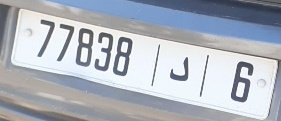3: (93, 30, 113, 74)
6: (226, 59, 255, 105)
7: (35, 15, 54, 60), (55, 22, 75, 64)
8: (113, 35, 134, 77), (75, 27, 94, 68)
d: (163, 50, 194, 86)
